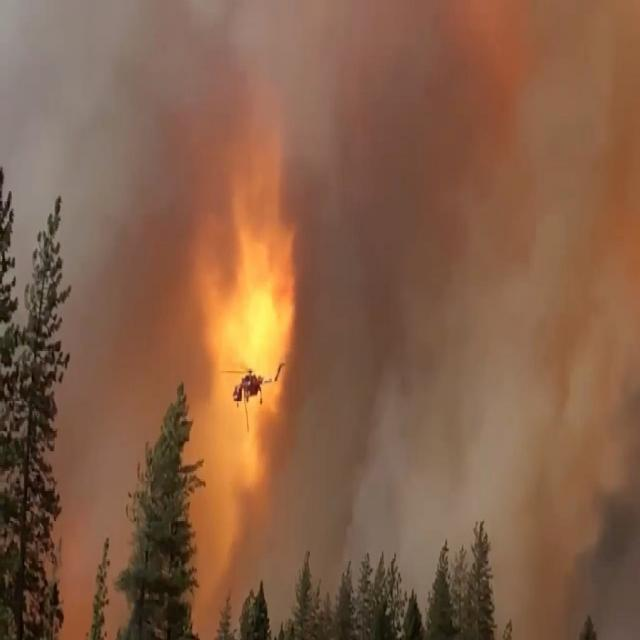Fire: (194, 119, 294, 540)
